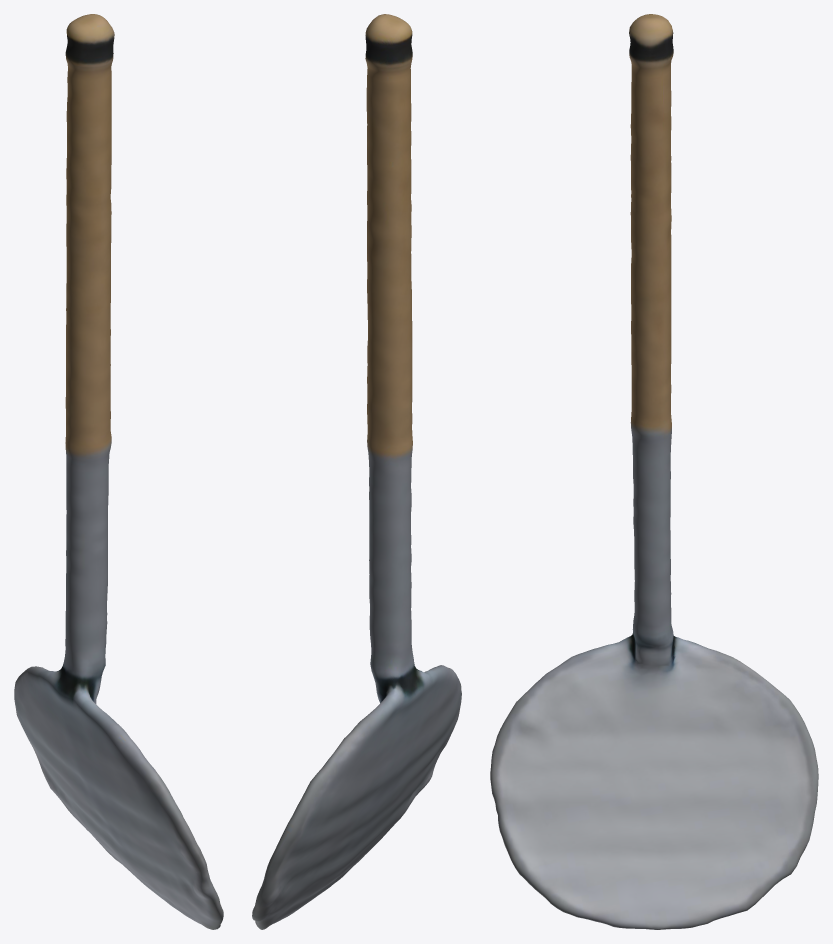
File: Peel.fbx
3 renders of one model, left to right at view 1: azimuth 30°, elevation 25°; view 2: azimuth 150°, elevation 25°; view 3: azimuth 270°, elevation 25°, orthographic. The views are drawn at different scales.
Parts seen in each view (by area): view 1: mesh; view 2: mesh; view 3: mesh.
Boxes of the visible parts, <box> form: mesh: <box>14,14,223,929</box>; mesh: <box>252,14,461,929</box>; mesh: <box>490,14,818,929</box>.
Bounding box in the file's own units: 13.67 × 99.96 × 34.13.
